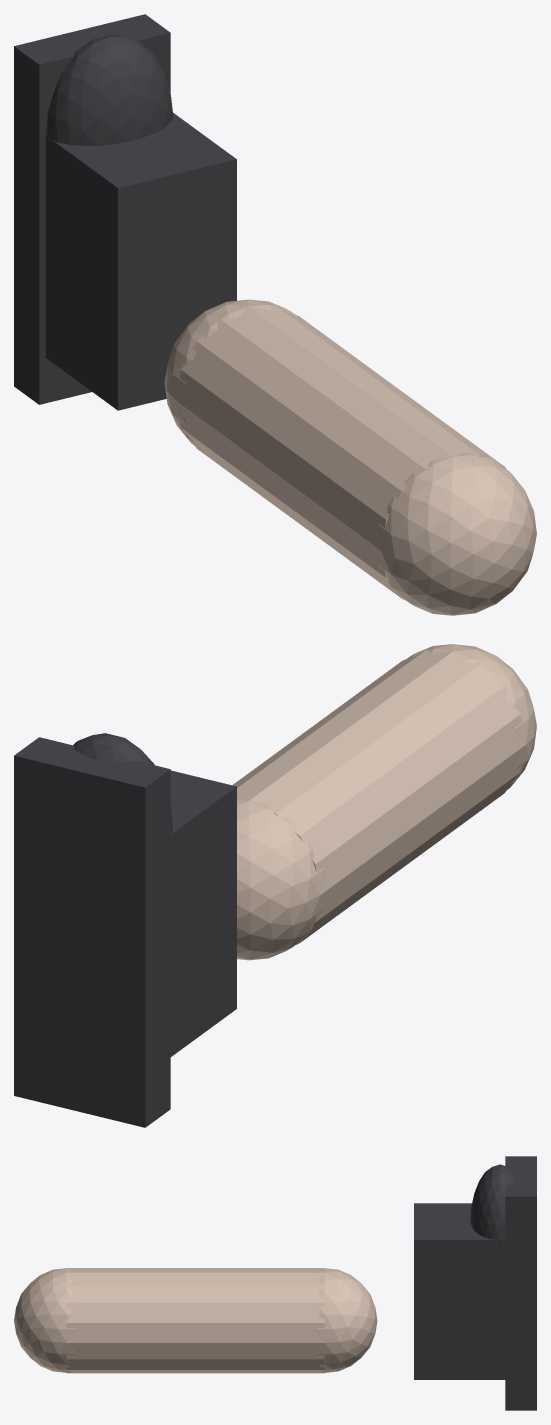
The model's file is windman_right_lower_leg.glb.
3 views of the same model, one above another, from view 1: azimuth 30°, elevation 25°; view 2: azimuth 150°, elevation 25°; view 3: azimuth 270°, elevation 25° (orthographic). The views are drawn at different scales.
Parts seen in each view (by area): view 1: geometry_0; view 2: geometry_0; view 3: geometry_0.
Boxes of the visible parts, x1,y1,x2,y2 form: geometry_0: (14,14,536,615); geometry_0: (14,644,536,1127); geometry_0: (14,1156,536,1410).
Bounding box in the file's own units: 0.116 × 0.271 × 0.5755.
